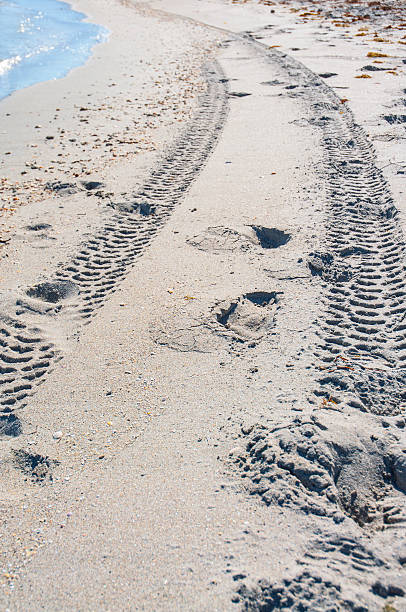vehicle_track: (231, 35, 405, 611), (0, 62, 227, 436), (251, 40, 405, 414)
